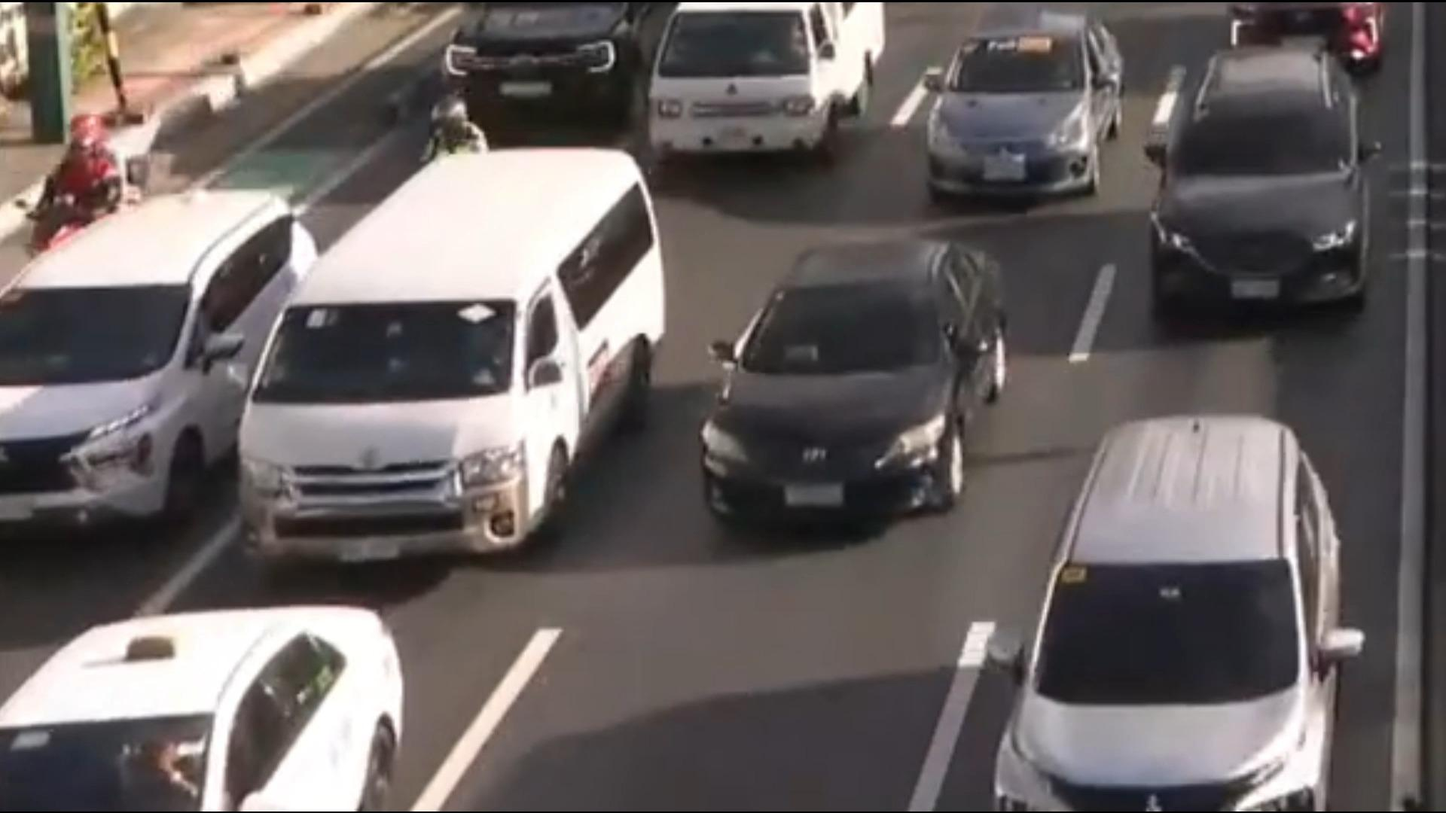Motorcycle: (13, 93, 149, 250)
Multicab: (632, 0, 898, 176)
SUV: (959, 391, 1391, 813), (0, 177, 318, 526), (1127, 50, 1390, 332)
Sedan: (661, 212, 1039, 547), (0, 573, 455, 813), (890, 1, 1137, 225)
Van: (200, 126, 712, 574)
